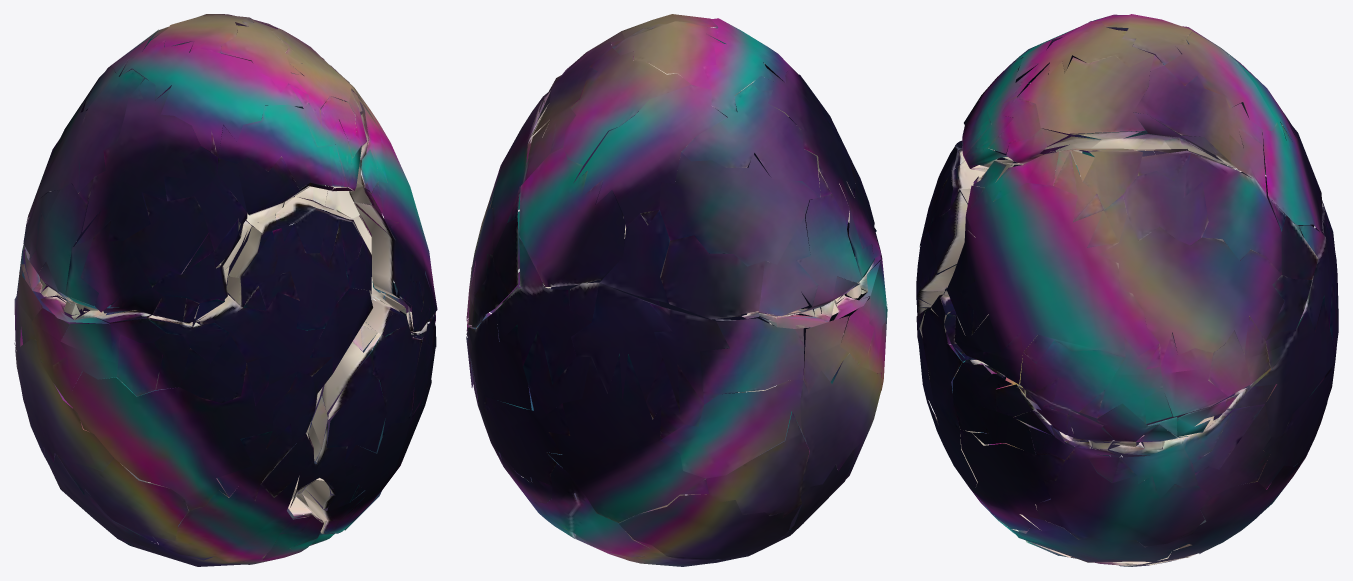
Rendered from mystery.glb.
3 views of the same model, side by side, from view 1: azimuth 30°, elevation 25°; view 2: azimuth 150°, elevation 25°; view 3: azimuth 270°, elevation 25° (orthographic).
Visible parts, largest first — view 1: Cap, Cup; view 2: Cap, Cup; view 3: Cap, Cup.
Part boxes in pixels (x1,y1,x2,y2): Cap: (17,14,434,376); Cup: (14,203,437,566); Cap: (469,14,885,377); Cup: (466,204,887,566); Cap: (916,14,1337,374); Cup: (916,227,1338,566).
Size of the model in its own units: 0.7374 by 1.01 by 0.7357.
1 material, 1 textured.
